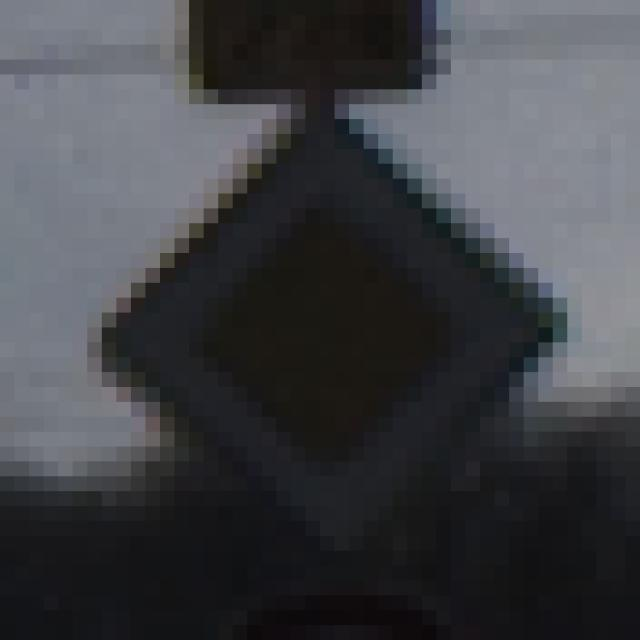Main Road: (74, 90, 568, 567)
